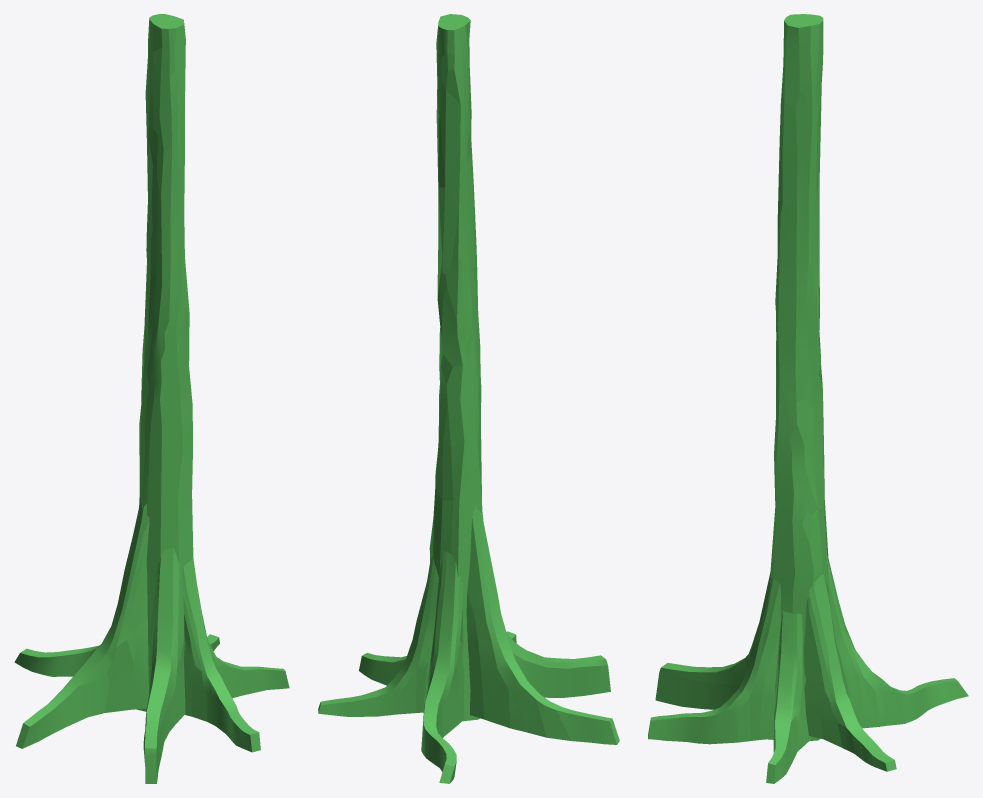
The model's file is jungle_big_tree_B_roots.fbx.
The picture shows the model from 3 angles, left to right: view 1: azimuth 30°, elevation 25°; view 2: azimuth 150°, elevation 25°; view 3: azimuth 270°, elevation 25°; orthographic projection. The views are drawn at different scales.
Visible parts, largest first — view 1: jungle_big_tree_B, jungle_big_tree_B_root_B, jungle_big_tree_B_root_C, jungle_big_tree_B_root_E, jungle_big_tree_B_root_small_A, jungle_big_tree_B_root_A; view 2: jungle_big_tree_B, jungle_big_tree_B_root_B, jungle_big_tree_B_root_A, jungle_big_tree_B_root_D, jungle_big_tree_B_root_C, jungle_big_tree_B_root_small_A; view 3: jungle_big_tree_B, jungle_big_tree_B_root_E, jungle_big_tree_B_root_D, jungle_big_tree_B_root_A, jungle_big_tree_B_root_small_A, jungle_big_tree_B_root_C.
Boxes of the visible parts, left/top/right/bottom form: jungle_big_tree_B: left=136, top=14, right=193, bottom=711; jungle_big_tree_B_root_B: left=16, top=497, right=149, bottom=748; jungle_big_tree_B_root_C: left=143, top=548, right=185, bottom=783; jungle_big_tree_B_root_E: left=182, top=558, right=260, bottom=752; jungle_big_tree_B_root_small_A: left=207, top=640, right=289, bottom=698; jungle_big_tree_B_root_A: left=14, top=645, right=99, bottom=676; jungle_big_tree_B: left=429, top=14, right=482, bottom=721; jungle_big_tree_B_root_B: left=466, top=504, right=619, bottom=744; jungle_big_tree_B_root_A: left=421, top=551, right=464, bottom=783; jungle_big_tree_B_root_D: left=318, top=556, right=438, bottom=716; jungle_big_tree_B_root_C: left=506, top=632, right=610, bottom=697; jungle_big_tree_B_root_small_A: left=359, top=653, right=406, bottom=685; jungle_big_tree_B: left=768, top=14, right=828, bottom=740; jungle_big_tree_B_root_E: left=648, top=578, right=780, bottom=744; jungle_big_tree_B_root_D: left=803, top=574, right=896, bottom=771; jungle_big_tree_B_root_A: left=827, top=555, right=968, bottom=728; jungle_big_tree_B_root_small_A: left=766, top=610, right=811, bottom=783; jungle_big_tree_B_root_C: left=655, top=571, right=770, bottom=709.
Size of the model in its own units: 373 by 932 by 376.
